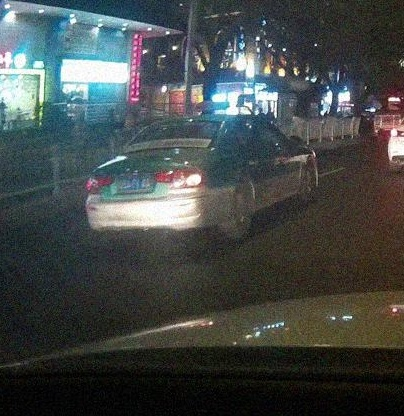L_light: (85, 175, 114, 193)
R_light: (154, 166, 205, 190)
T_light: (172, 122, 192, 127)
night-right: (85, 115, 226, 244)
